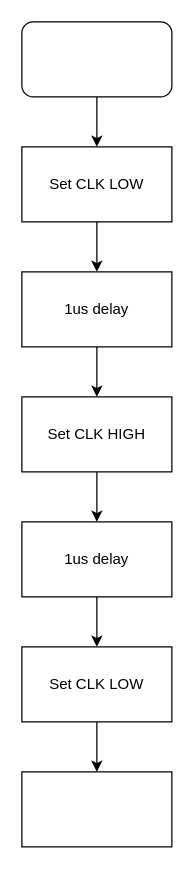
Some shapes in this 194 by 869 pixel diagram are drawn without their labels. Each missing label, with the centre of its shape:
END: the point at 96,809
SEG_CLK_2us: the point at 96,59
